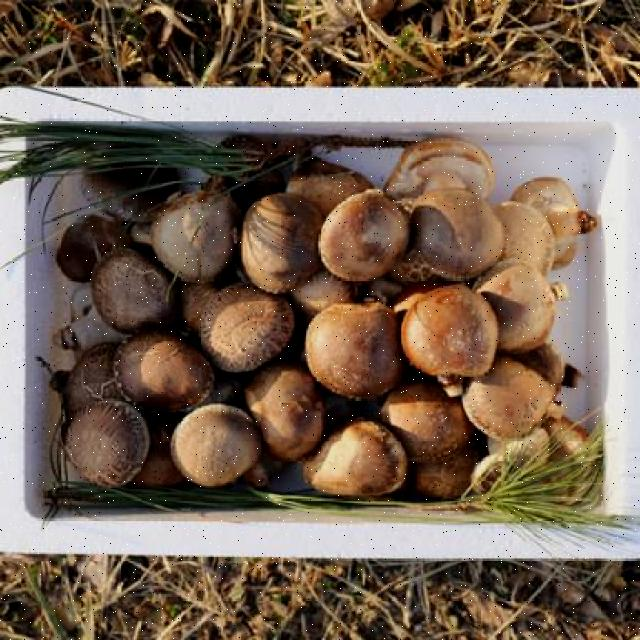Mushroom: (290, 172, 410, 286), (382, 275, 503, 382)
